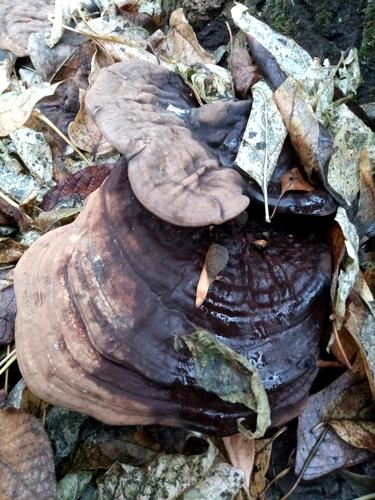Ganoderma - Fruit Body: (9, 158, 326, 437), (19, 160, 336, 427), (86, 59, 230, 158)
